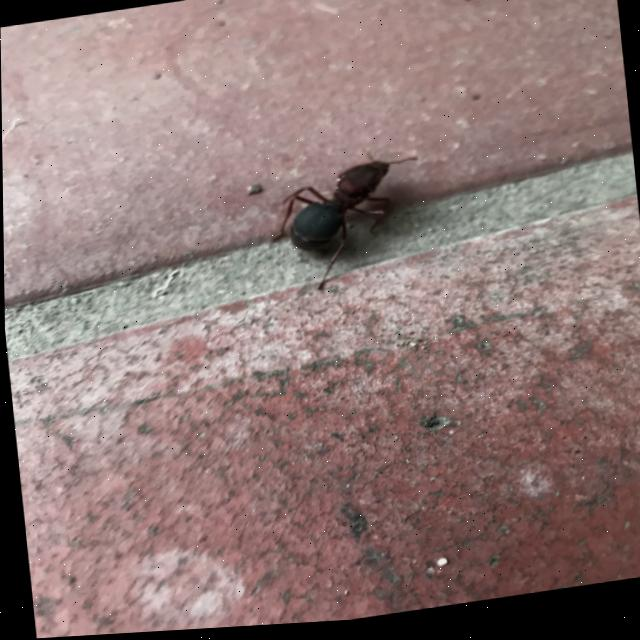Alive-Female-Dealate: (260, 142, 431, 301)
